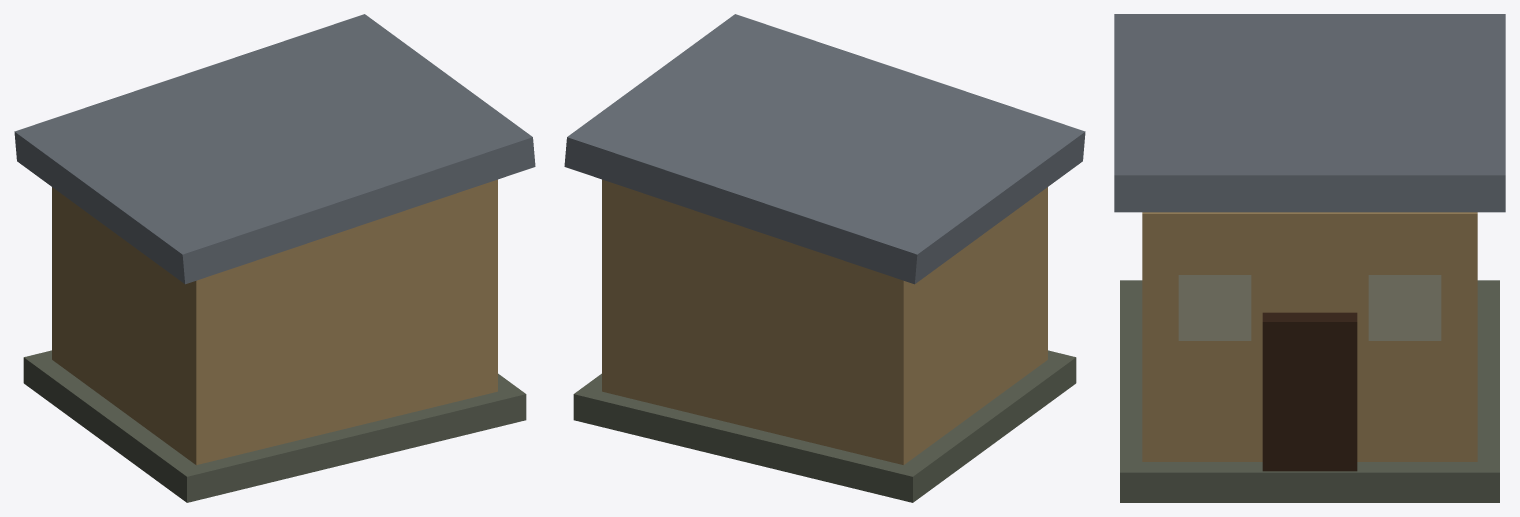
Rendered from shophouse.glb.
3 renders of one model, left to right at view 1: azimuth 30°, elevation 25°; view 2: azimuth 150°, elevation 25°; view 3: azimuth 270°, elevation 25°, orthographic. The views are drawn at different scales.
Parts seen in each view (by area): view 1: walls, roof, foundation; view 2: walls, roof, foundation; view 3: roof, walls, foundation, frontDoor, windowLeft, windowRight.
Boxes of the visible parts, box(x1,y1,x2,y2) form: walls: box(52, 179, 497, 465); roof: box(14, 14, 535, 284); foundation: box(23, 350, 526, 502); walls: box(602, 179, 1047, 465); roof: box(564, 14, 1085, 284); foundation: box(573, 350, 1076, 502); roof: box(1114, 14, 1505, 212); walls: box(1142, 212, 1477, 461); foundation: box(1120, 280, 1499, 502); frontDoor: box(1262, 312, 1357, 471); windowLeft: box(1179, 275, 1250, 340); windowRight: box(1369, 275, 1440, 340).
Bounding box in the file's own units: 1.7 × 1.3 × 1.4.
